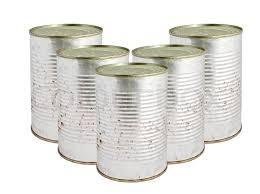Tin: (16, 8, 260, 194)
